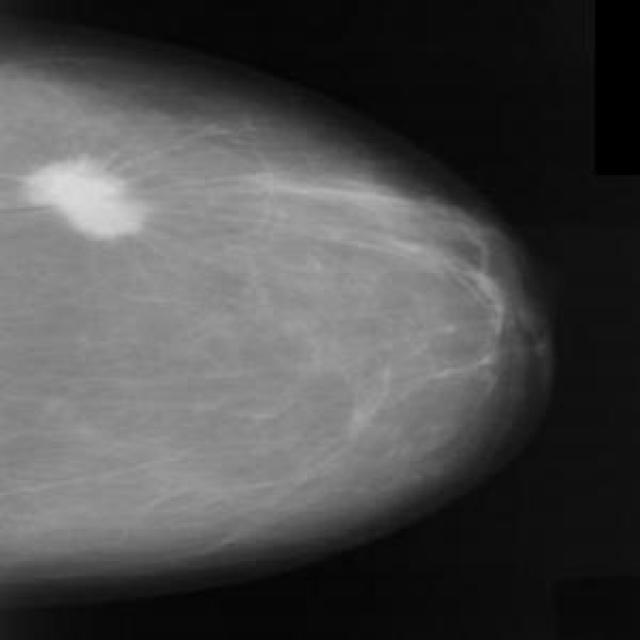tumor: (17, 140, 158, 258), (265, 161, 430, 246), (454, 268, 522, 413)
